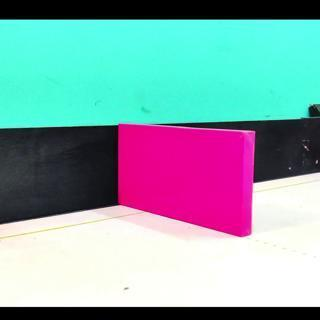xparking: (120, 135, 246, 235)
